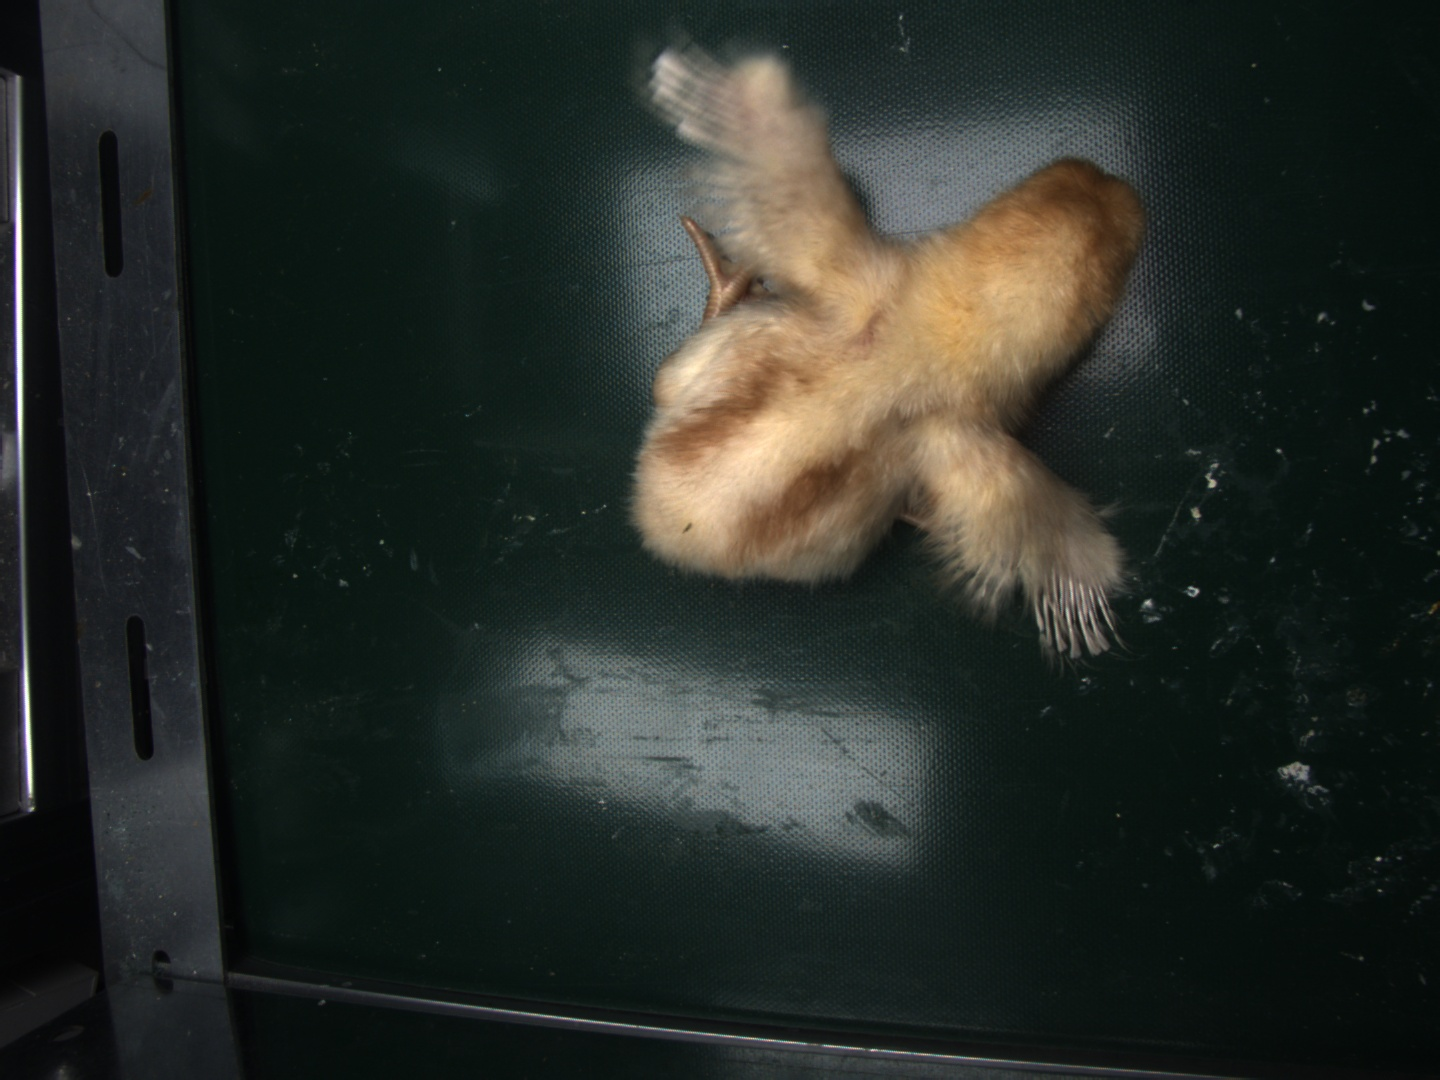female: (1035, 575, 1124, 661)
